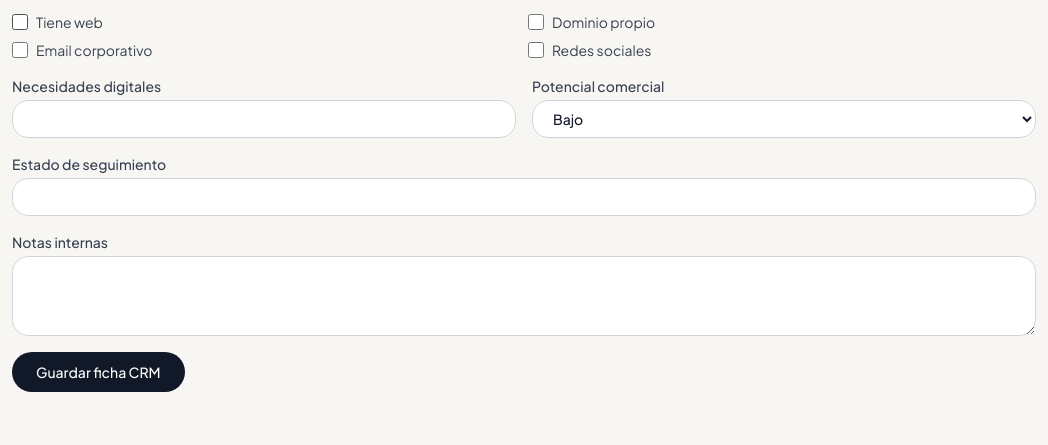
Test case: CrmForm (4.9) › submits checkbox and select values as the action expects
Click the checkbox labelled "Tiene web": (20, 22) 12,14 -> 28,30
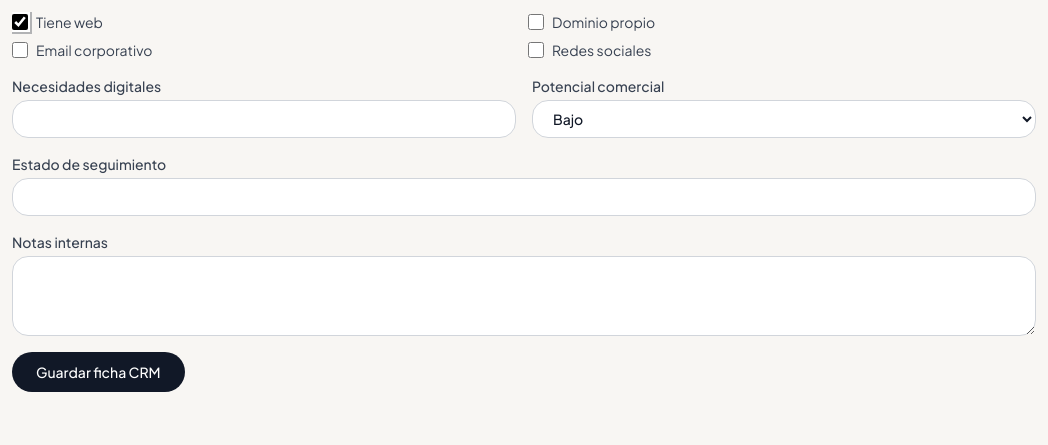
Select "Medio" in the dropdown labelled "Potencial comercial": (784, 119) 532,100 -> 1036,138
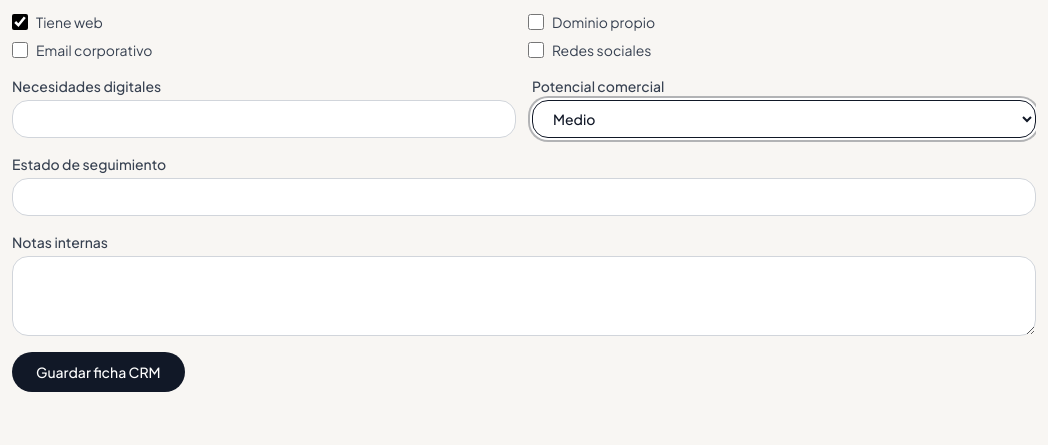
Click the button "Guardar ficha CRM": (98, 372) 12,352 -> 185,392
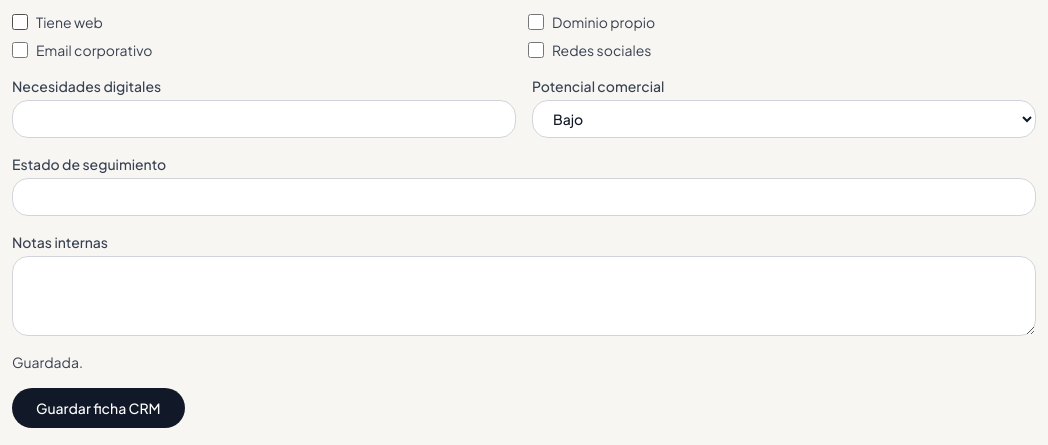
Result: the text "Guardada." is shown at 12,353 -> 83,371
